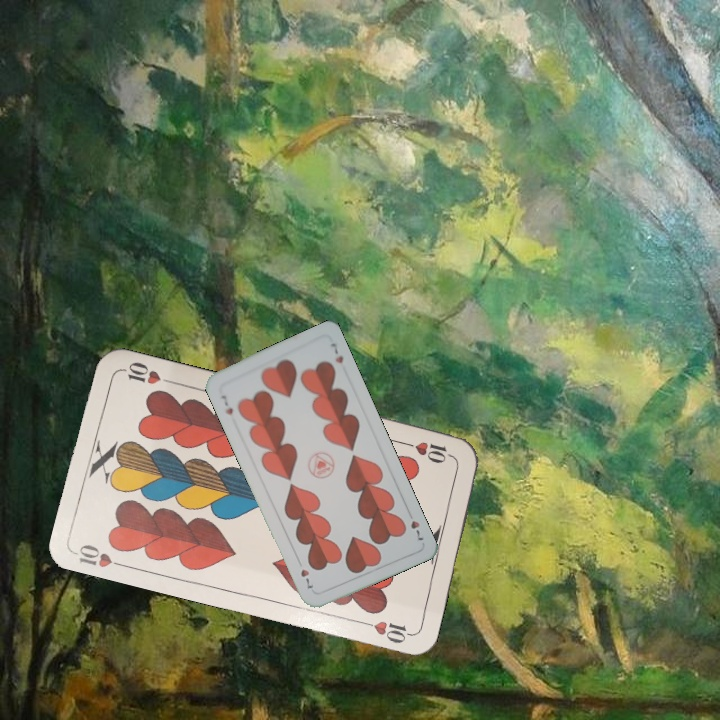H10: (72, 540, 130, 571), (399, 437, 457, 464)
H7: (407, 516, 426, 543), (217, 391, 236, 417)
